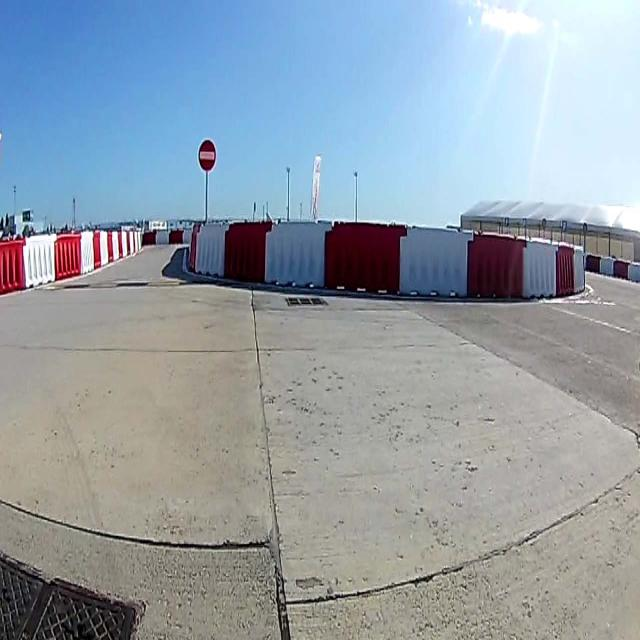girisyok: (198, 140, 216, 172)
